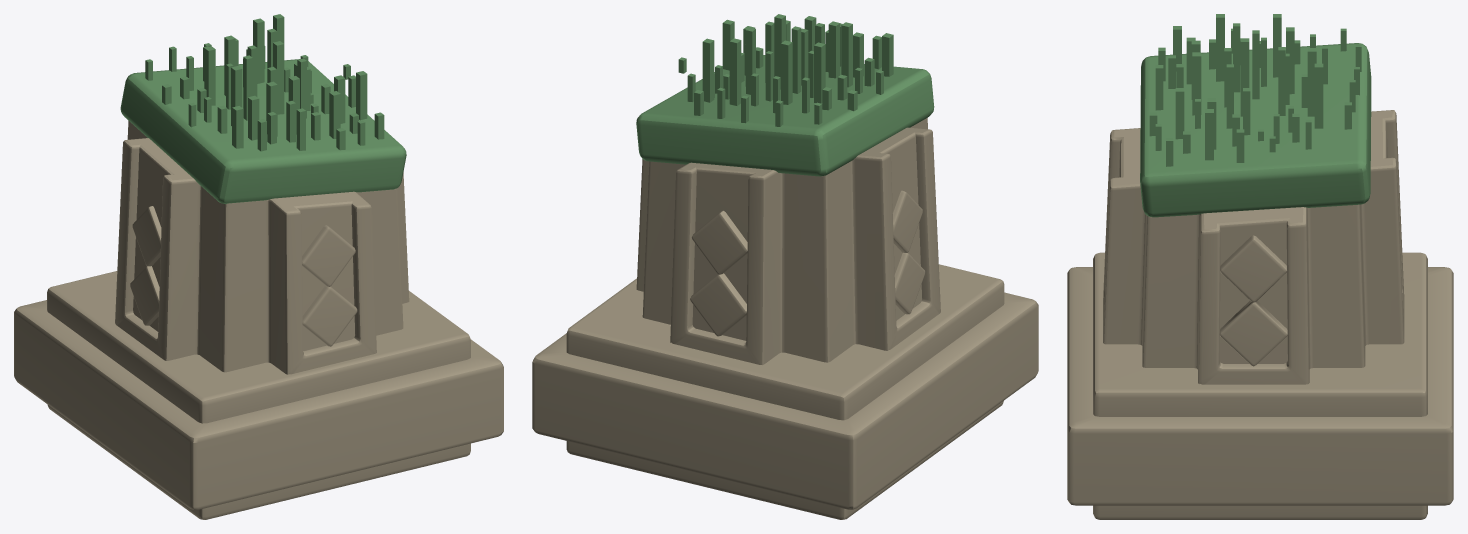
File: TemplePillarA_002.fbx
3 views of the same model, side by side, from view 1: azimuth 30°, elevation 25°; view 2: azimuth 150°, elevation 25°; view 3: azimuth 270°, elevation 25° (orthographic). The views are drawn at different scales.
Parts seen in each view (by area): view 1: TemplePillarA_002; view 2: TemplePillarA_002; view 3: TemplePillarA_002.
Boxes of the visible parts, x1,y1,x2,y2 form: TemplePillarA_002: (14,14,503,519); TemplePillarA_002: (532,14,1038,519); TemplePillarA_002: (1067,14,1453,519).
Bounding box in the file's own units: 1.16 × 1.38 × 1.16.
